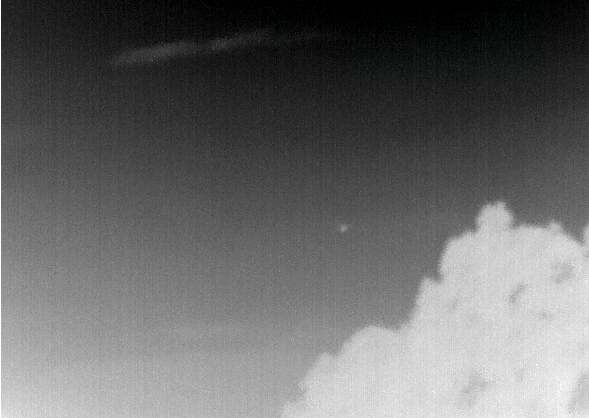dim target: (338, 223, 349, 233)
